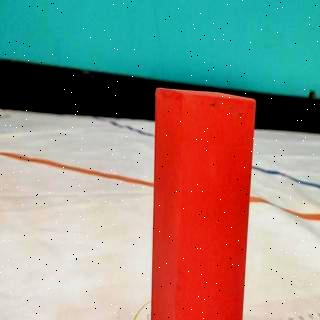redbox: (148, 87, 258, 320)
